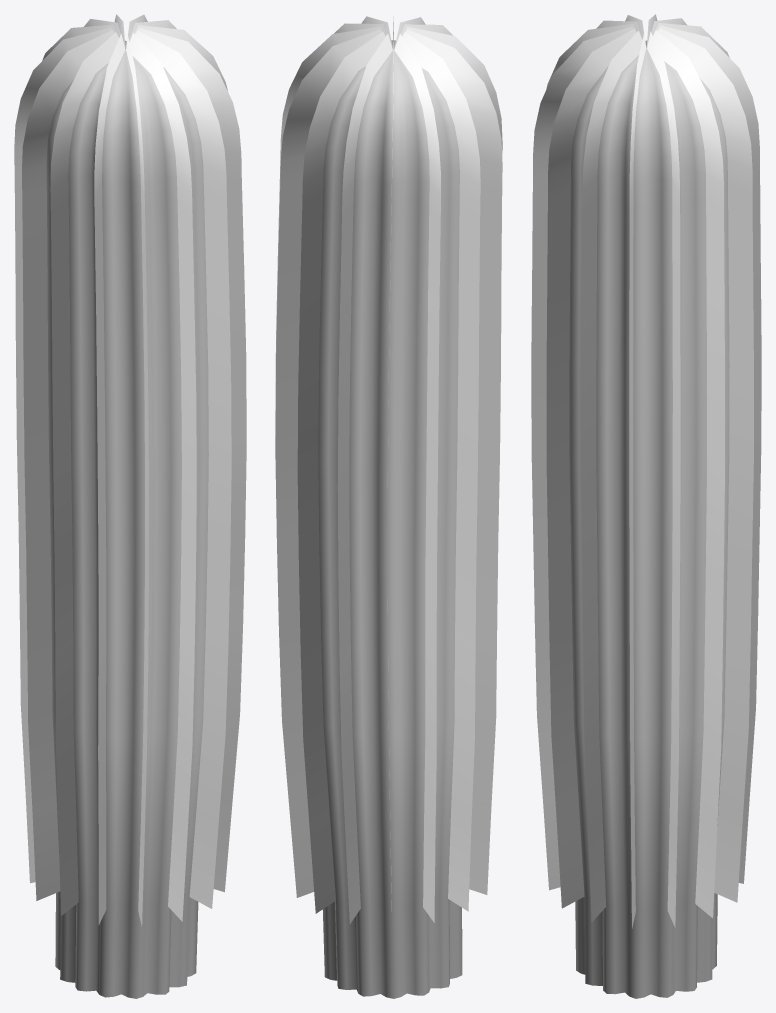
The model's file is TevyYoung.glb.
3 views of the same model, side by side, from view 1: azimuth 30°, elevation 25°; view 2: azimuth 150°, elevation 25°; view 3: azimuth 270°, elevation 25° (orthographic).
Visible parts, largest first — view 1: saguaro_young; view 2: saguaro_young; view 3: saguaro_young.
Part boxes in pixels (left/top/right/bottom): saguaro_young: left=14, top=14, right=246, bottom=998; saguaro_young: left=275, top=16, right=502, bottom=998; saguaro_young: left=531, top=14, right=761, bottom=998.
Bounding box in the file's own units: 0.4255 × 1.92 × 0.4241.
2 materials, 1 textured.
